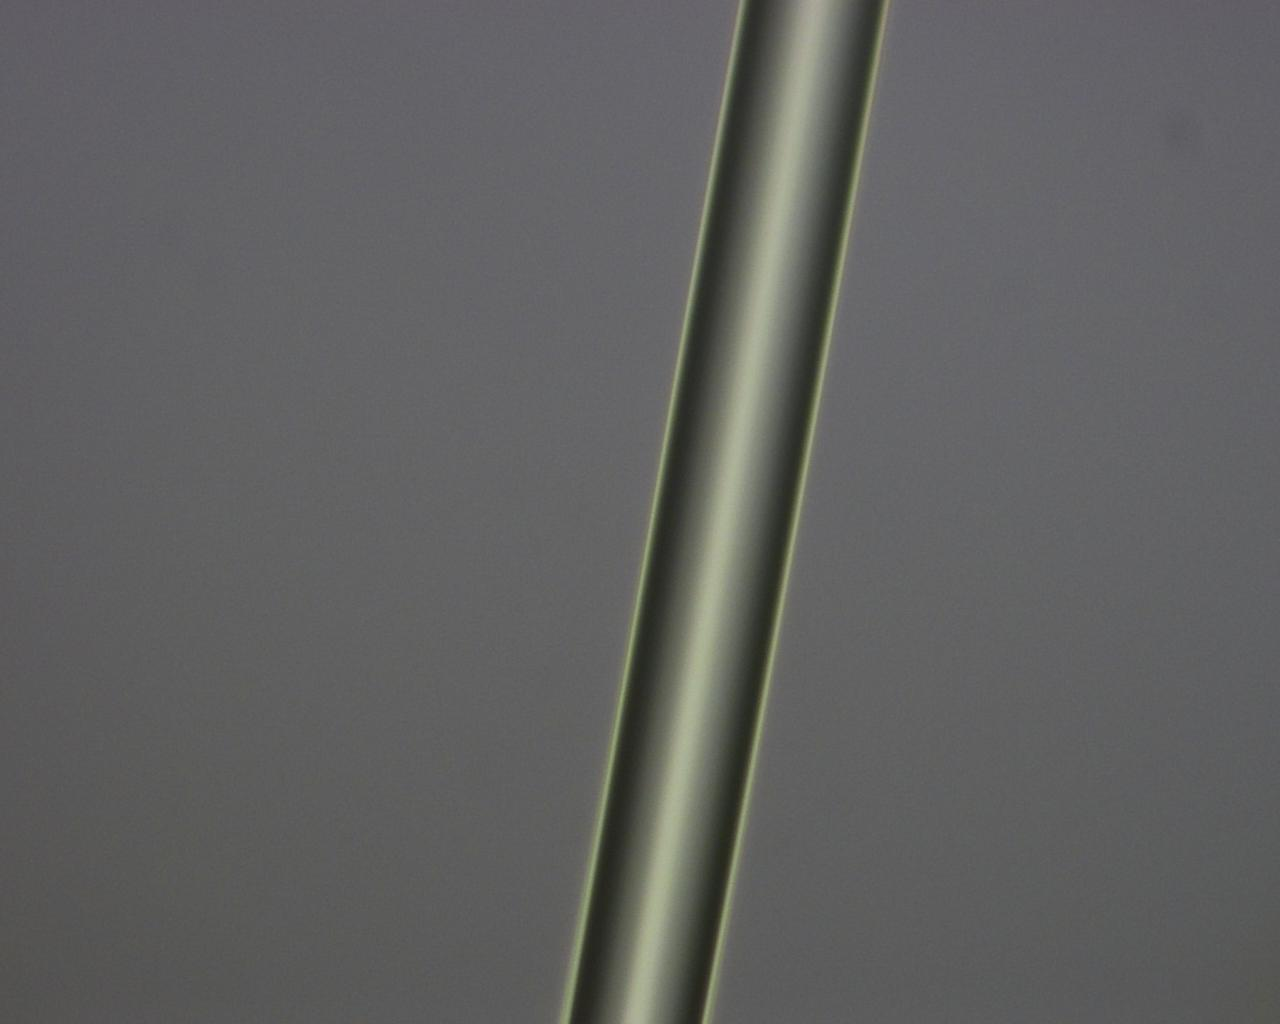fiber: (935, 0, 1221, 563), (77, 0, 214, 563), (691, 633, 945, 744), (333, 563, 349, 1024)
